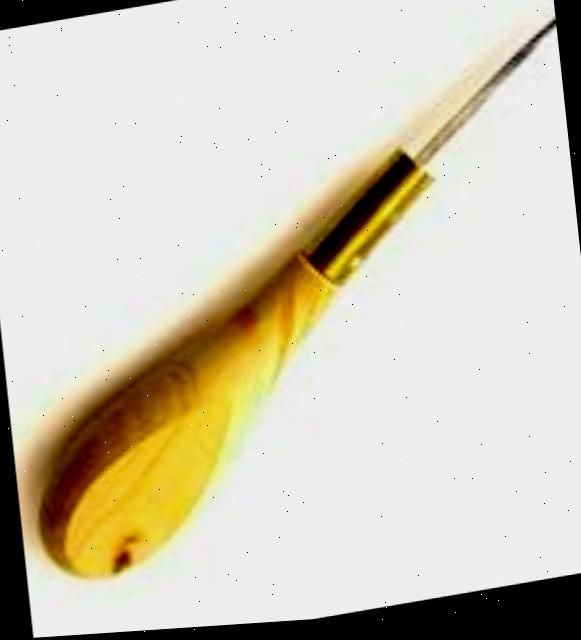ice pick: (0, 7, 581, 589)
